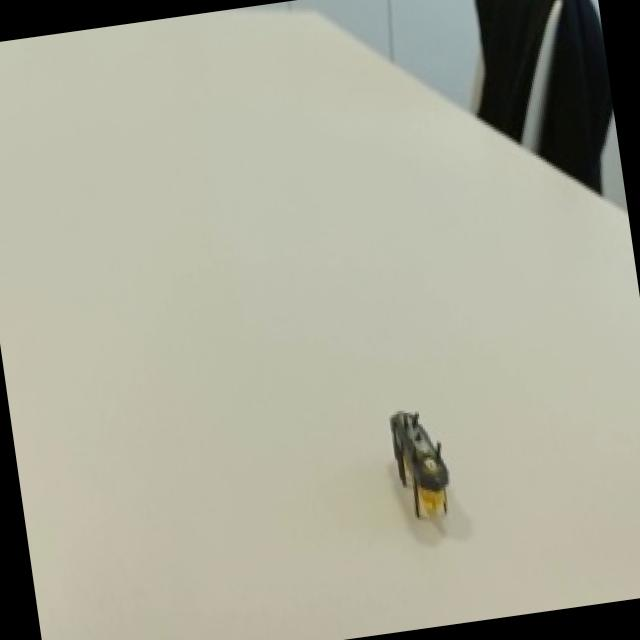6_NanoBug_GrisOscuro: (358, 353, 488, 549)
